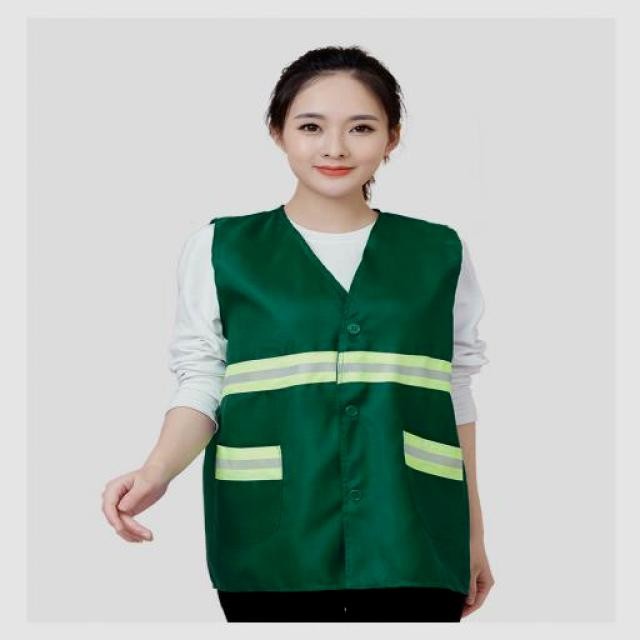face_nomask: (282, 105, 388, 193)
hand_noglove: (97, 454, 167, 552)
head_nohelmet: (262, 32, 406, 97)
person: (94, 32, 504, 623)
vest: (201, 208, 475, 600)
